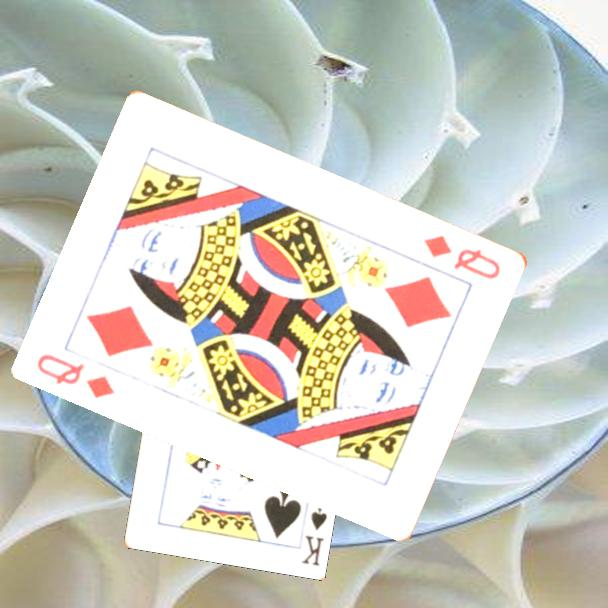d12: (34, 350, 119, 401), (421, 231, 504, 282)
s13: (298, 504, 330, 568)
